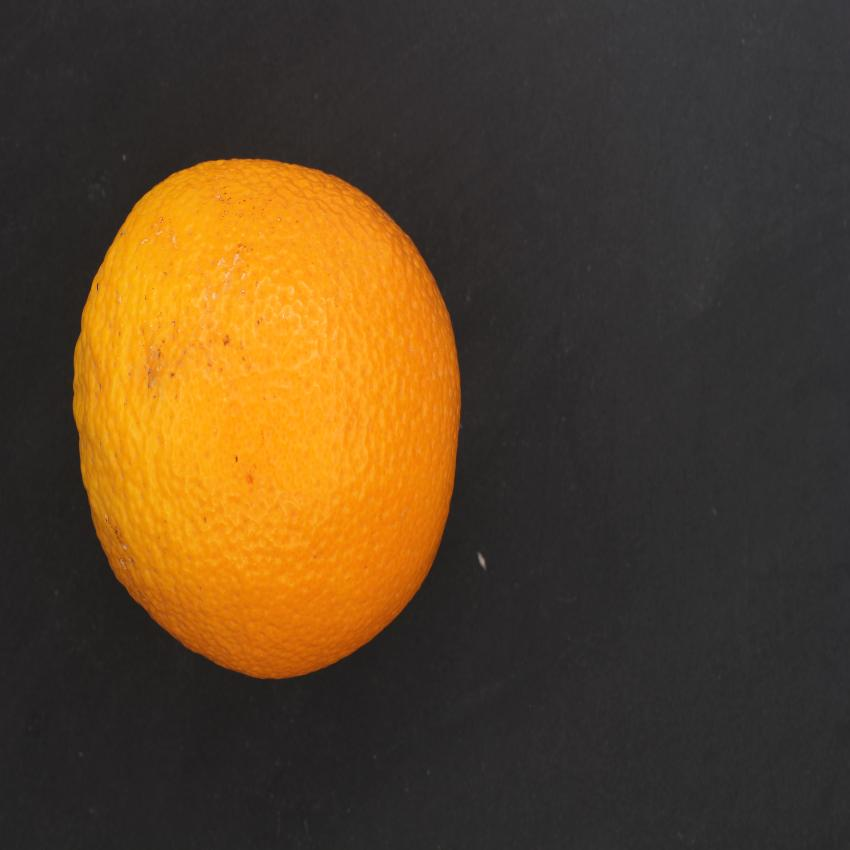Mal estado: (66, 140, 479, 695)
